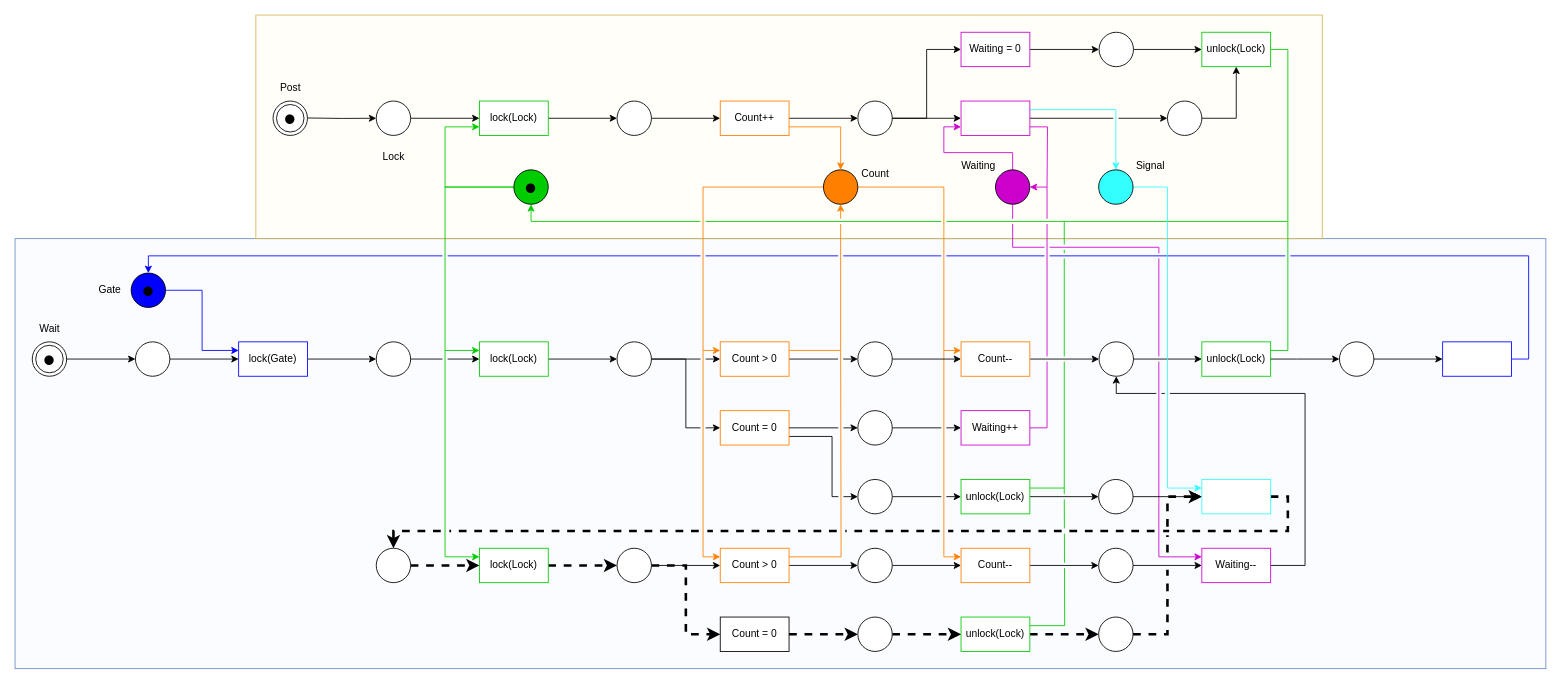
Image size: 1561x684. Some labels were removed from this diagram. Each missing label, with the centre of its shape:
unlock(Gate): pixel 1476 358
wait(Signal): pixel 1236 496
Waiting = 1: pixel 995 117
